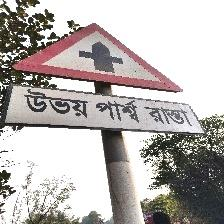Crossroad: (8, 18, 198, 138)
